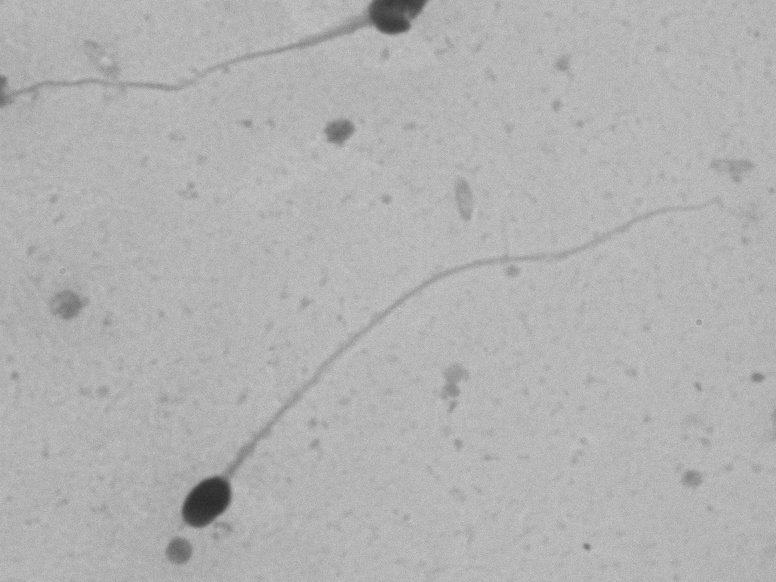Normal: (158, 183, 738, 545)
